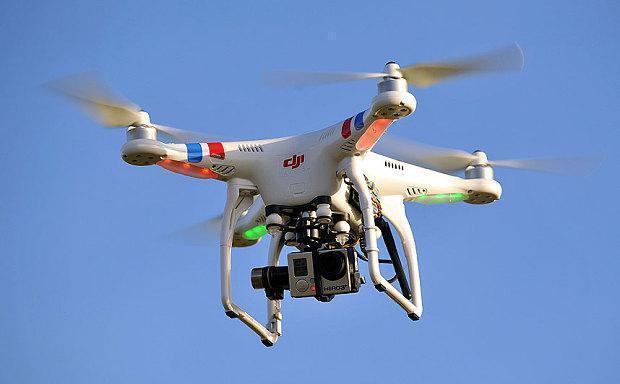UAV: (117, 56, 505, 349)
